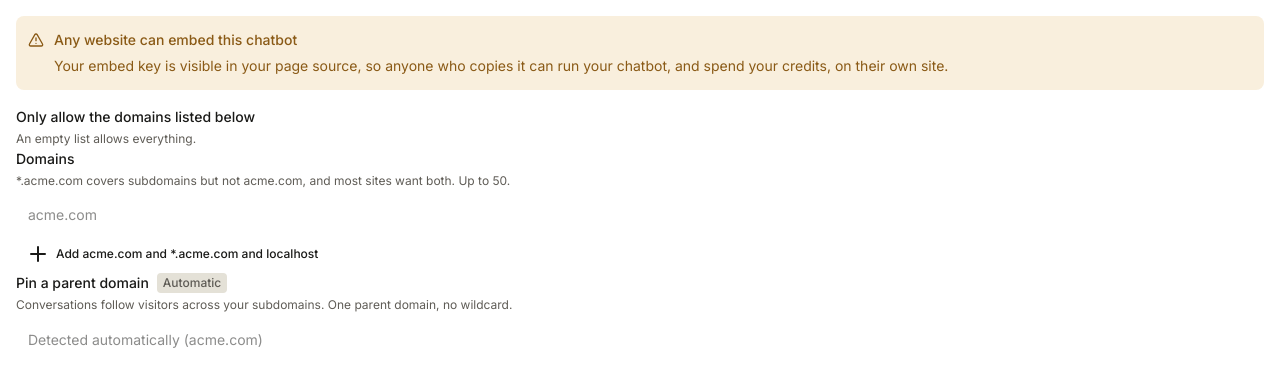
Scenario: the allow-list › explains a rejected entry instead of silently dropping it
Type "nonsense" into the field named "Domains".
click(336, 215); type("nonsense")  # box [22, 204, 650, 226]
Then press Enter
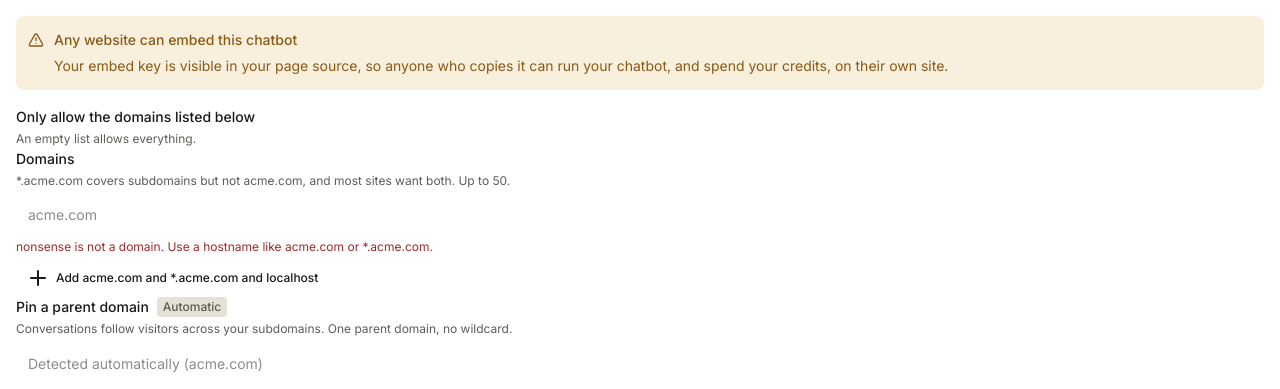
Expected: the list item "is not a domain" is shown, [16, 239, 433, 254]
